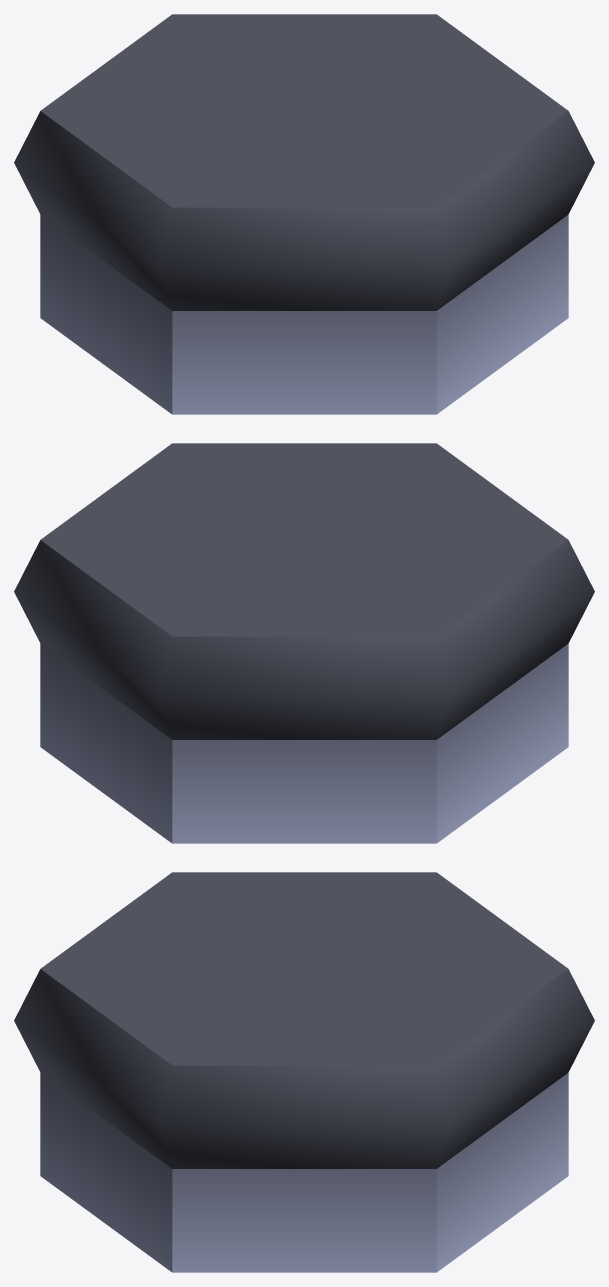
File: block-snow-low-hexagon.glb
The picture shows the model from 3 angles, top to bottom: view 1: azimuth 30°, elevation 25°; view 2: azimuth 150°, elevation 25°; view 3: azimuth 270°, elevation 25°; orthographic projection.
Parts seen in each view (by area): view 1: block-snow-low-hexagon; view 2: block-snow-low-hexagon; view 3: block-snow-low-hexagon.
Part boxes in pixels (<box>): block-snow-low-hexagon: <box>14,14,594,414</box>; block-snow-low-hexagon: <box>14,443,594,843</box>; block-snow-low-hexagon: <box>14,872,594,1272</box>.
Size of the model in its own units: 1.1 by 0.5 by 1.27.
